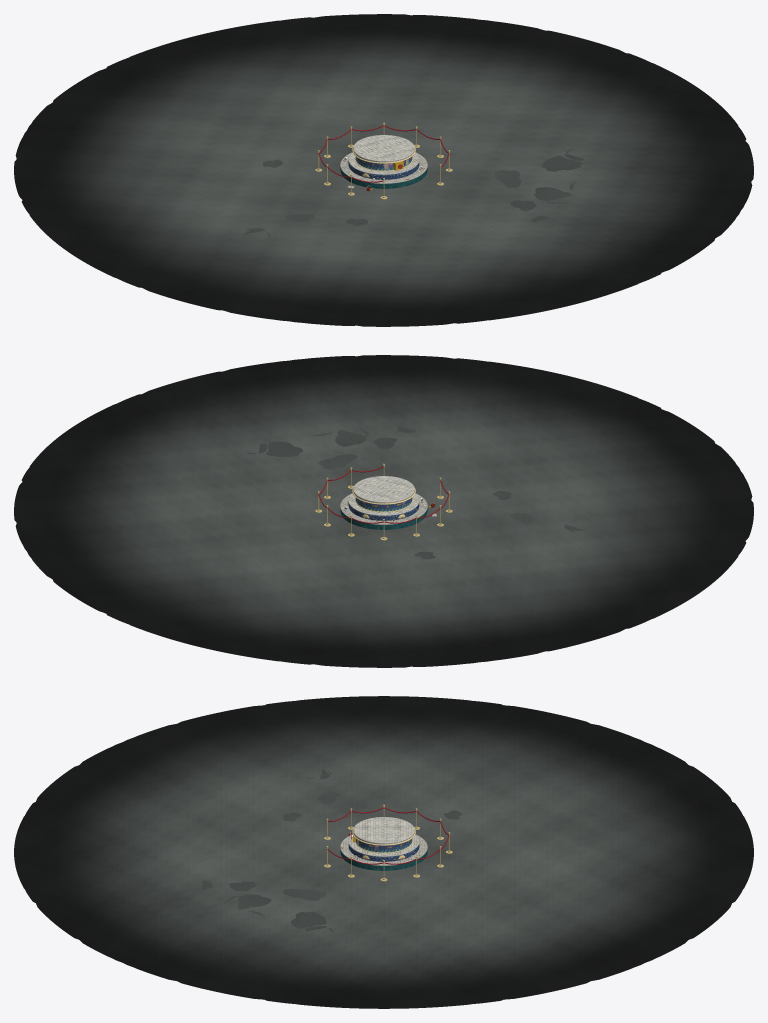
File: piedistallo.glb
3 views of the same model, one above another, from view 1: azimuth 30°, elevation 25°; view 2: azimuth 150°, elevation 25°; view 3: azimuth 270°, elevation 25° (orthographic).
Parts seen in each view (by area): view 1: pavimento_titolo, amb_piedistallo, sala_pozzanghere, sala_monumento_cordone; view 2: pavimento_titolo, amb_piedistallo, sala_pozzanghere, sala_monumento_cordone; view 3: pavimento_titolo, amb_piedistallo, sala_pozzanghere, sala_monumento_cordone.
Boxes of the visible parts, <box> form: pavimento_titolo: <box>14,14,753,326</box>; amb_piedistallo: <box>340,135,427,188</box>; sala_pozzanghere: <box>243,148,584,237</box>; sala_monumento_cordone: <box>315,122,452,199</box>; pavimento_titolo: <box>14,355,753,667</box>; amb_piedistallo: <box>340,476,427,529</box>; sala_pozzanghere: <box>244,426,586,559</box>; sala_monumento_cordone: <box>315,463,452,540</box>; pavimento_titolo: <box>14,696,753,1008</box>; amb_piedistallo: <box>340,817,427,870</box>; sala_pozzanghere: <box>201,768,461,932</box>; sala_monumento_cordone: <box>324,804,452,881</box>.
Bounding box in the file's own units: 34 × 1.15 × 34.
Materials: 18 (15 with a texture image).
